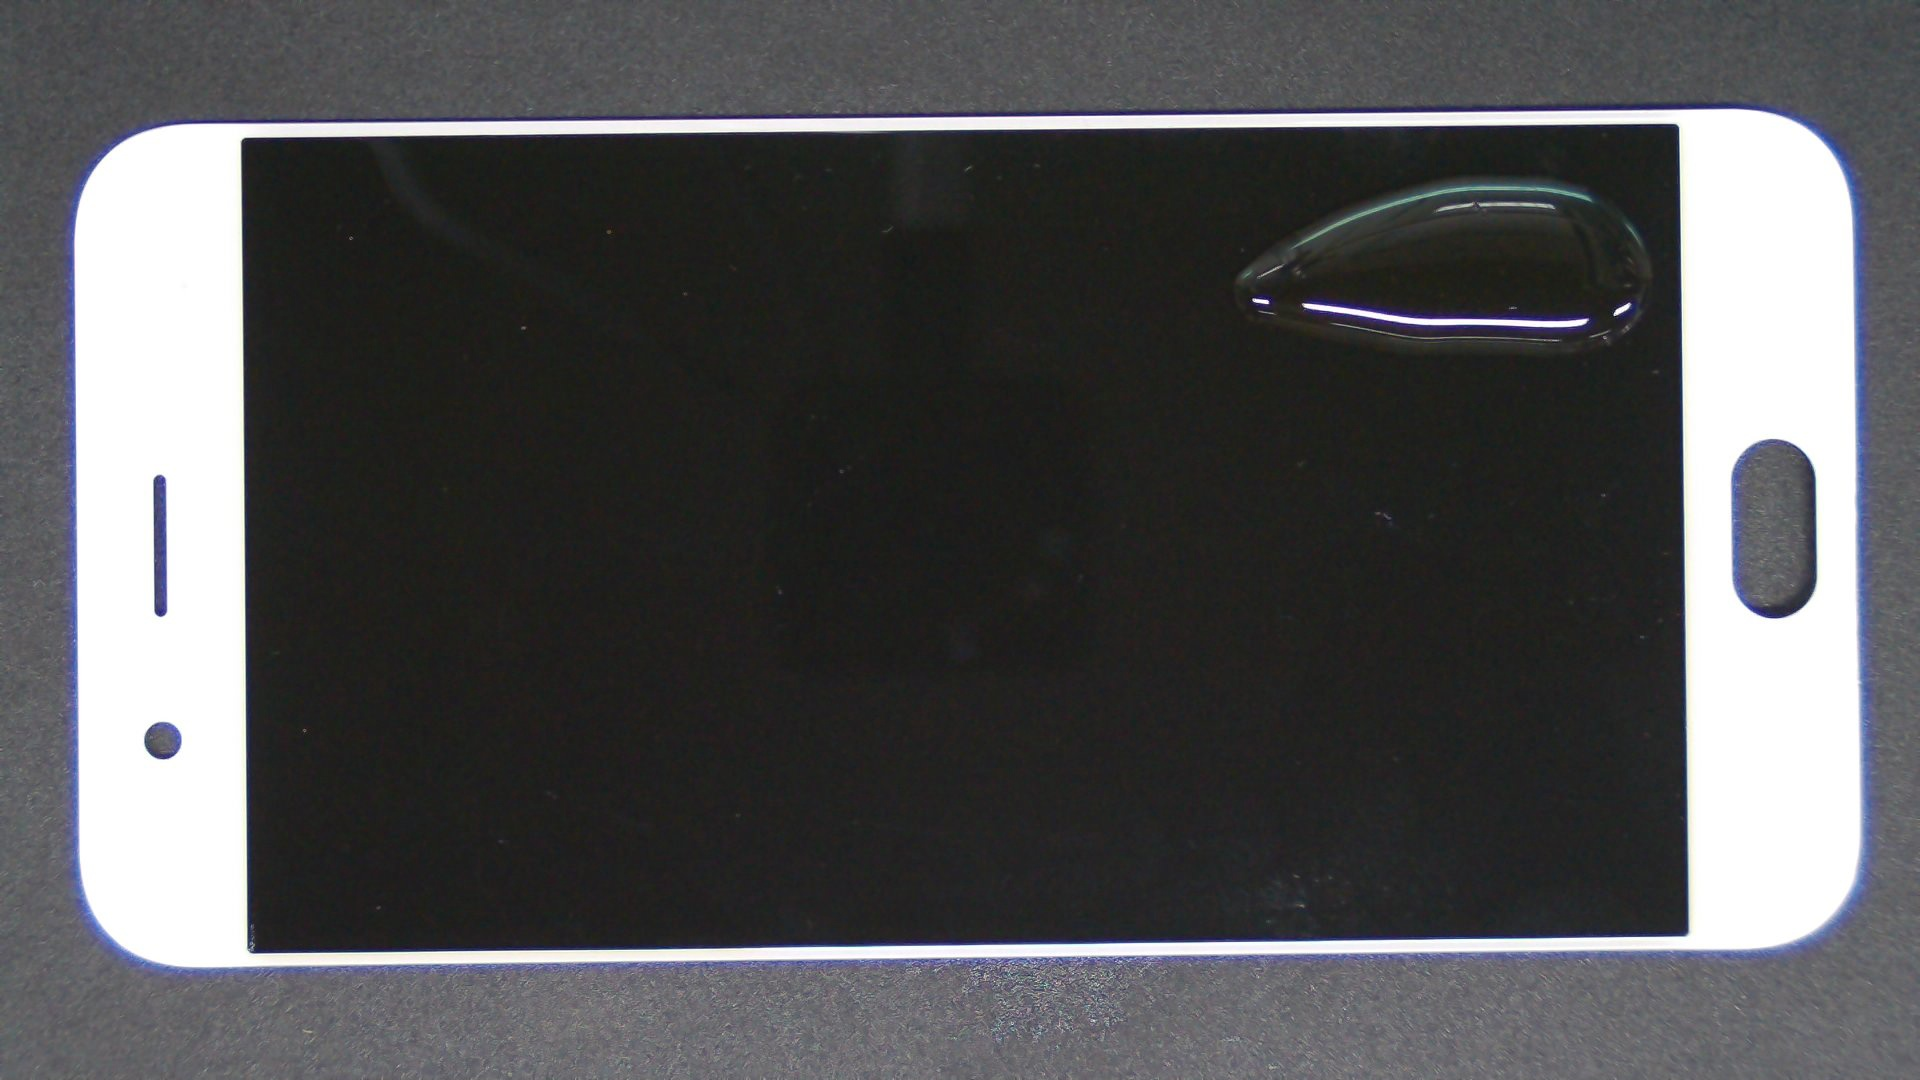oil: (757, 87, 1920, 262)
